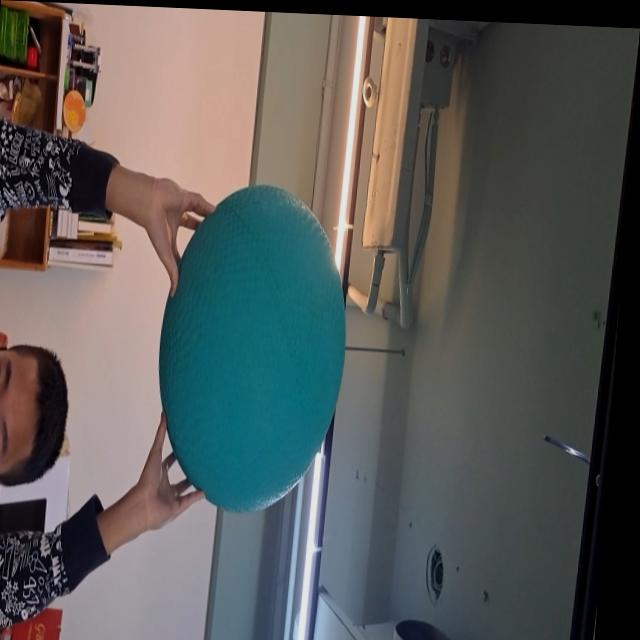ALGAE: (146, 184, 354, 518)
